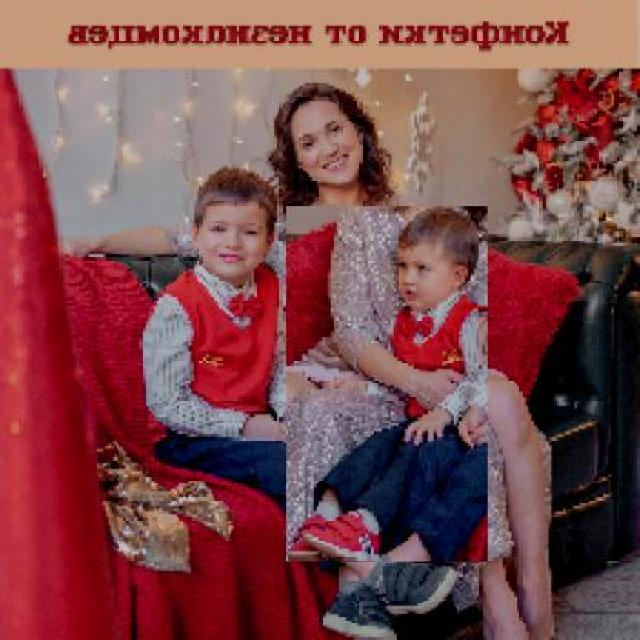child: (137, 162, 460, 638), (284, 206, 487, 563)
